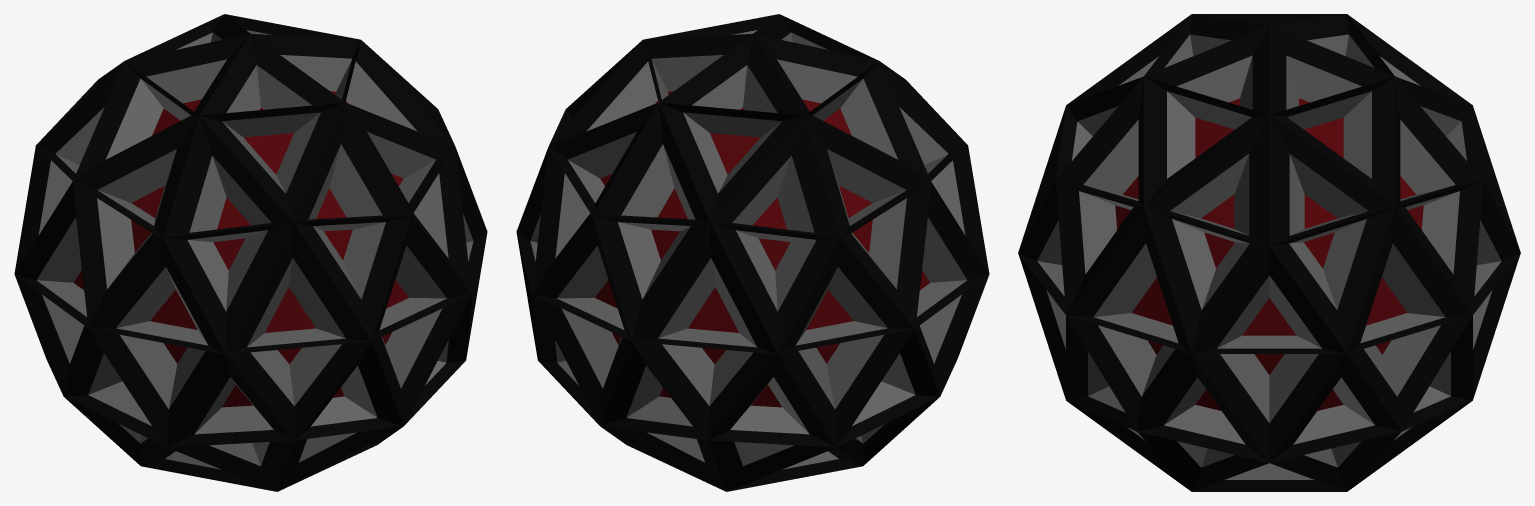
File: cekirdek.fbx
The picture shows the model from 3 angles, left to right: view 1: azimuth 30°, elevation 25°; view 2: azimuth 150°, elevation 25°; view 3: azimuth 270°, elevation 25°; orthographic projection. The views are drawn at different scales.
Parts seen in each view (by area): view 1: Cylinder.001; view 2: Cylinder.001; view 3: Cylinder.001.
Part boxes in pixels (x1=…): Cylinder.001: x1=14, y1=14, x2=487, y2=491; Cylinder.001: x1=516, y1=14, x2=989, y2=491; Cylinder.001: x1=1018, y1=14, x2=1520, y2=491.
Size of the model in its own units: 190 by 200 by 200.
